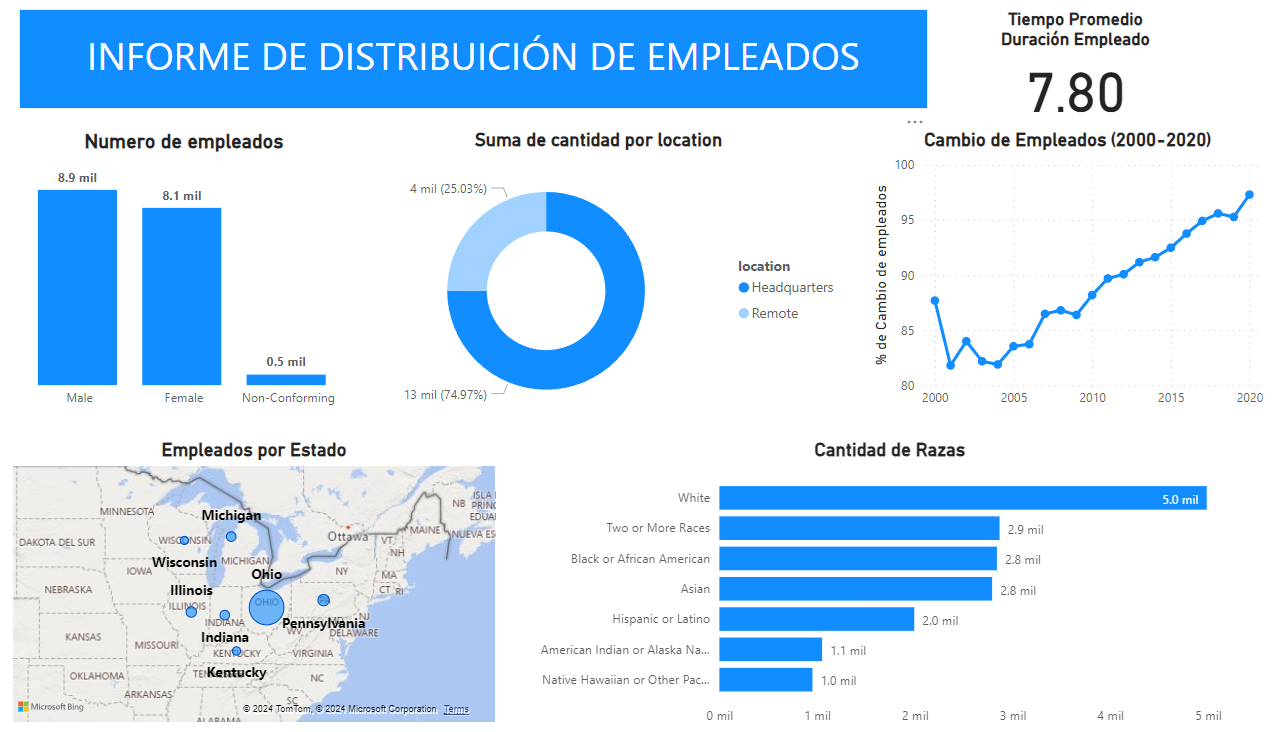

The page's visual inventory and layout, read from the dashboard file:
{"tool":"powerbi","page":{"name":"Página 1","canvas":[1280,720],"ordinal":0},"visuals":[{"type":"card","title":"Tiempo Promedio Duración Empleado","fields":{"Values":["Sum(data_human v_quinta_vista.duracion_tiempo_promedio_trabajado)"]},"box":[995,14.6,181.9,109.9],"z":0},{"type":"columnChart","title":"Numero de empleados","fields":{"Category":["data_human w_primera_consulta.gender"],"Y":["Sum(data_human w_primera_consulta.cantidad)"]},"box":[31.1,131.3,375.4,279.1],"z":1000},{"type":"donutChart","fields":{"Category":["data_human v_cuarta_vista.location"],"Y":["Sum(data_human v_cuarta_vista.cantidad)"]},"box":[379.3,131.3,485.3,293.7],"z":2000},{"type":"lineChart","title":"Cambio de Empleados  (2000-2020)","fields":{"Category":["data_human v_decima_vista.year"],"Y":["Sum(data_human v_decima_vista.net_change_percent)"]},"box":[883.2,131.3,390,279.1],"z":3000},{"type":"map","title":"Empleados por Estado","fields":{"Category":["data_human v_novena_vista.location_state"],"Size":["Sum(data_human v_novena_vista.cantidad)"]},"box":[47.7,432.8,478.5,280.1],"z":4000},{"type":"clusteredBarChart","title":"Cantidad de Razas","fields":{"Category":["data_human v_segunda_vista.race"],"Y":["Sum(data_human v_segunda_vista.cantidad)"]},"box":[547.6,432.8,715.9,286.9],"z":5000},{"type":"textbox","box":[58.4,15,884.1,97.3],"z":6000}]}

Visuals, with their boxes in screenshot pixels (x1, y1, x2, y2), scaled from the page's 1280x720 canvas onto the 1272x732 screenshot:
"Tiempo Promedio Duración Empleado" card: crop(989, 15, 1170, 127)
"Numero de empleados" columnChart: crop(31, 133, 404, 417)
donutChart - data_human v_cuarta_vista.location x Sum(data_human v_cuarta_vista.cantidad): crop(377, 133, 859, 432)
"Cambio de Empleados  (2000-2020)" lineChart: crop(878, 133, 1265, 417)
"Empleados por Estado" map: crop(47, 440, 523, 725)
"Cantidad de Razas" clusteredBarChart: crop(544, 440, 1256, 731)
textbox: crop(58, 15, 937, 114)
